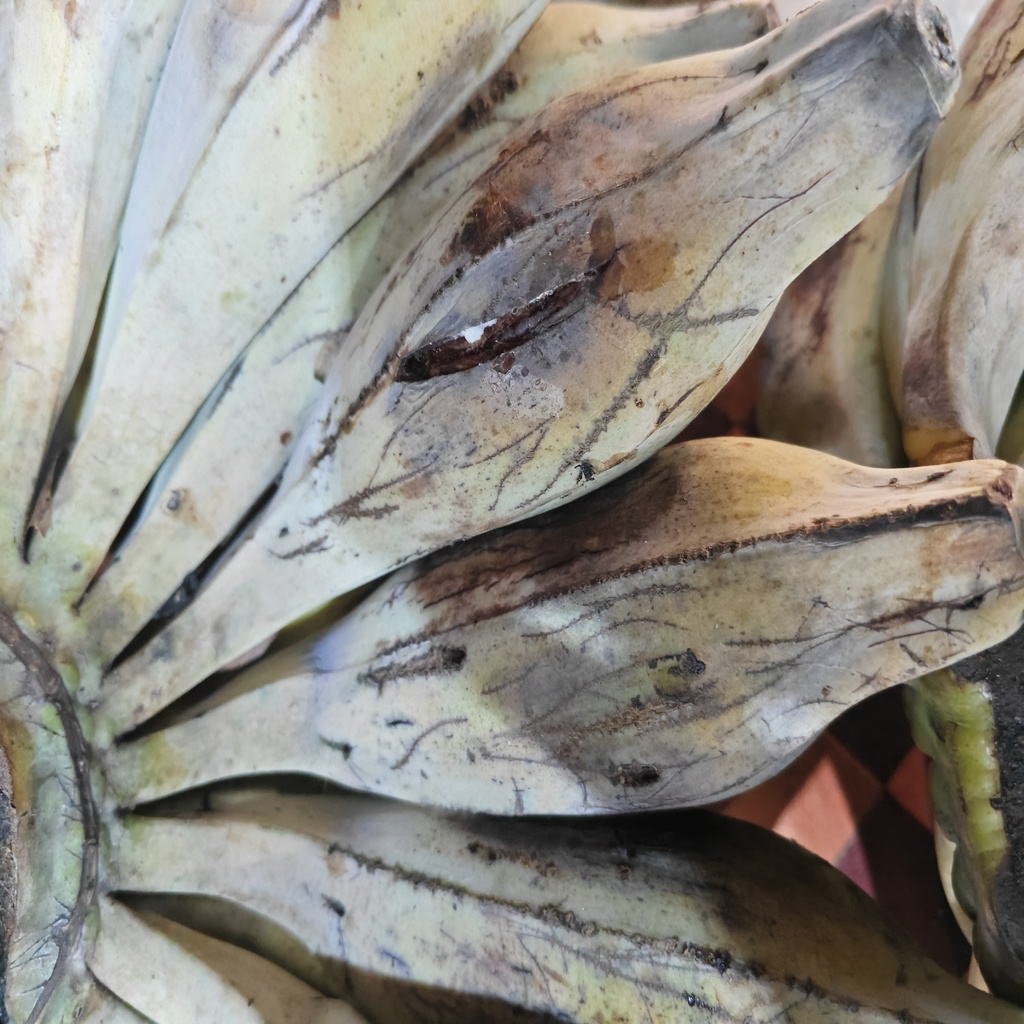unhealthy: (207, 15, 945, 646), (283, 432, 1024, 820)
